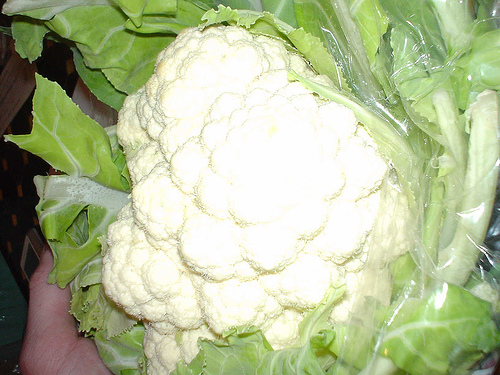cauliflower: (99, 25, 414, 373)
